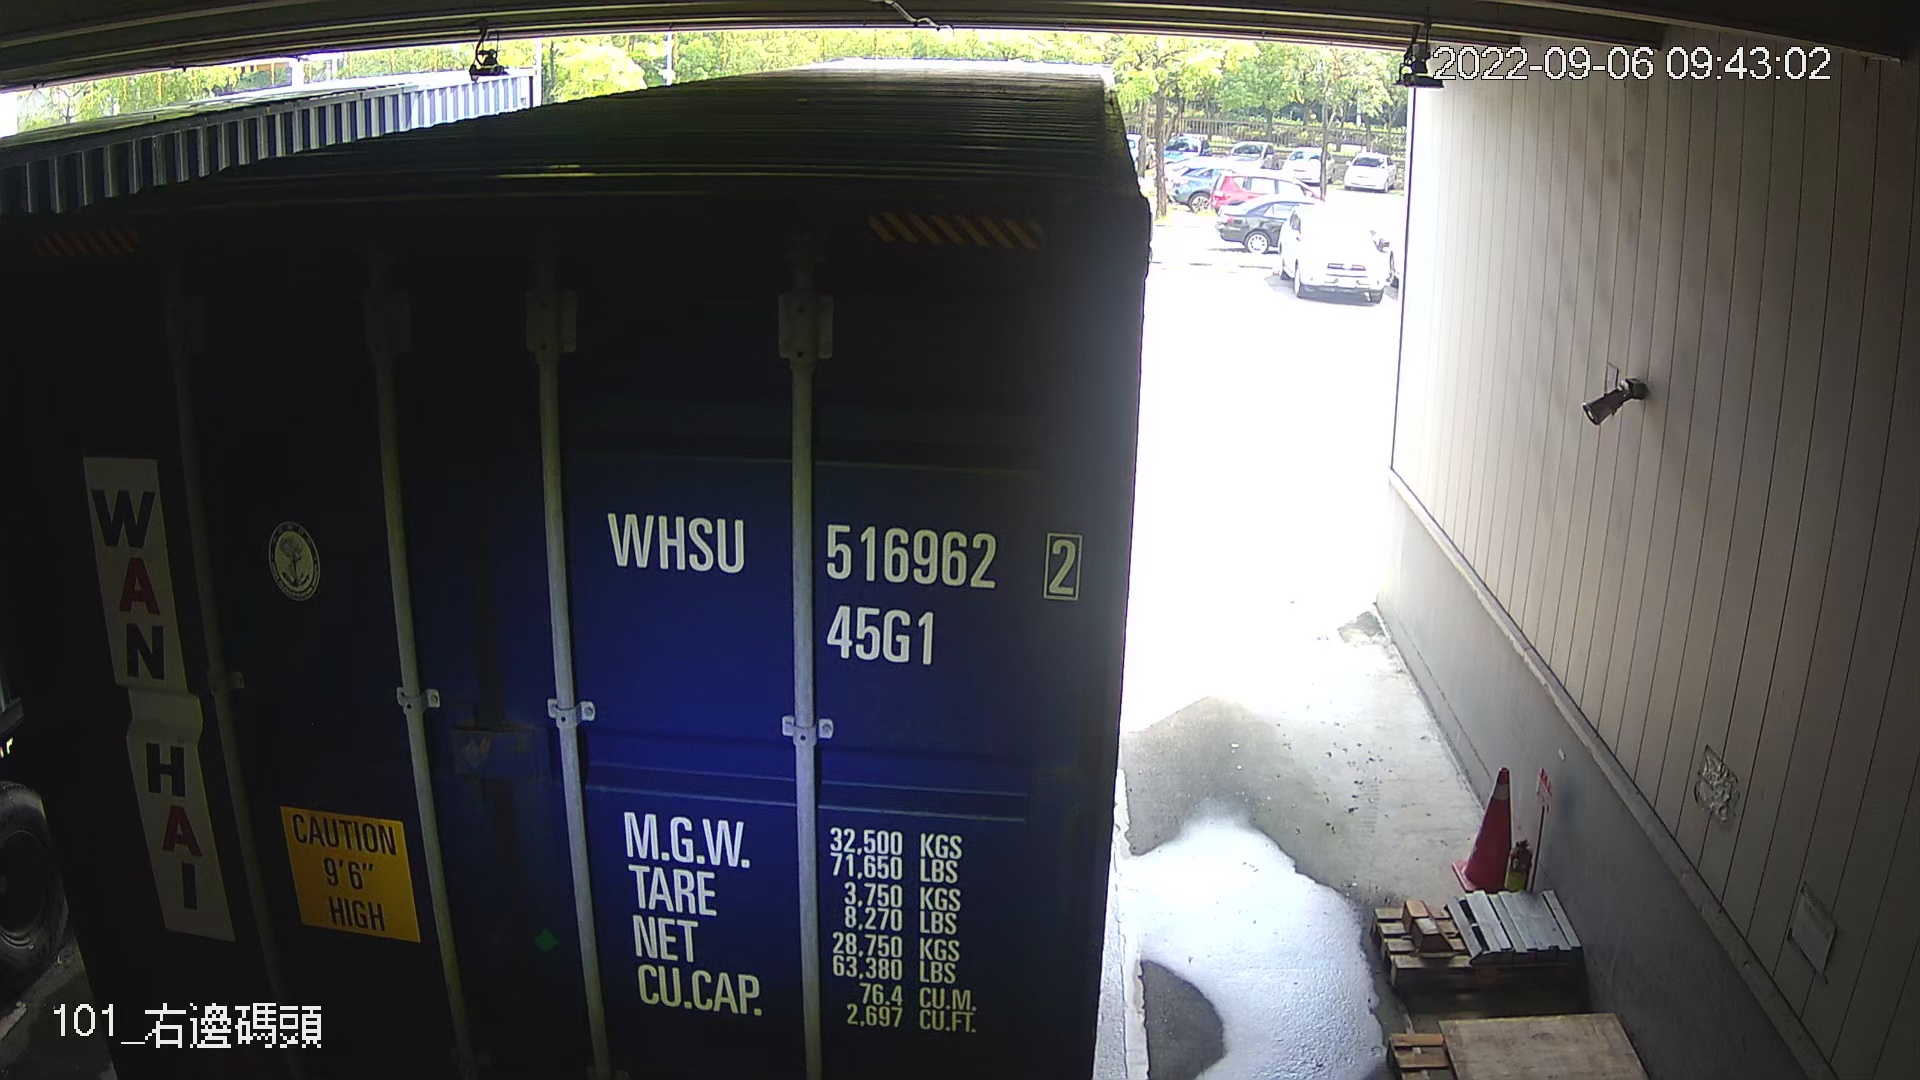container: (582, 488, 1092, 680)
